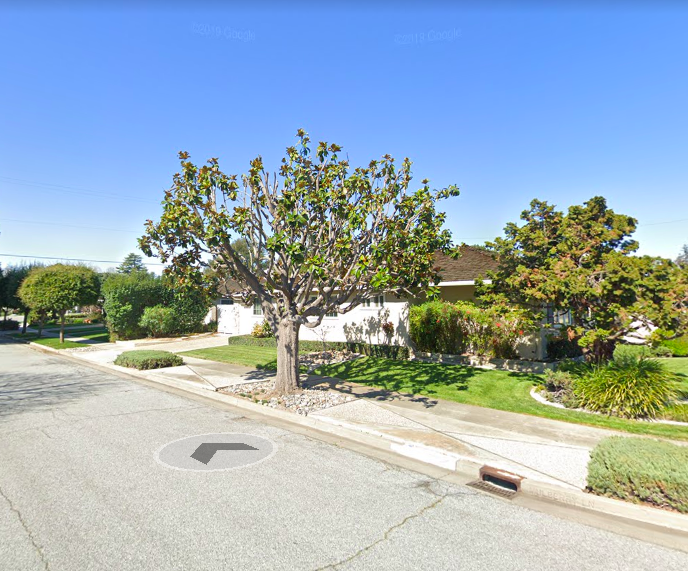tree: (136, 127, 463, 399)
